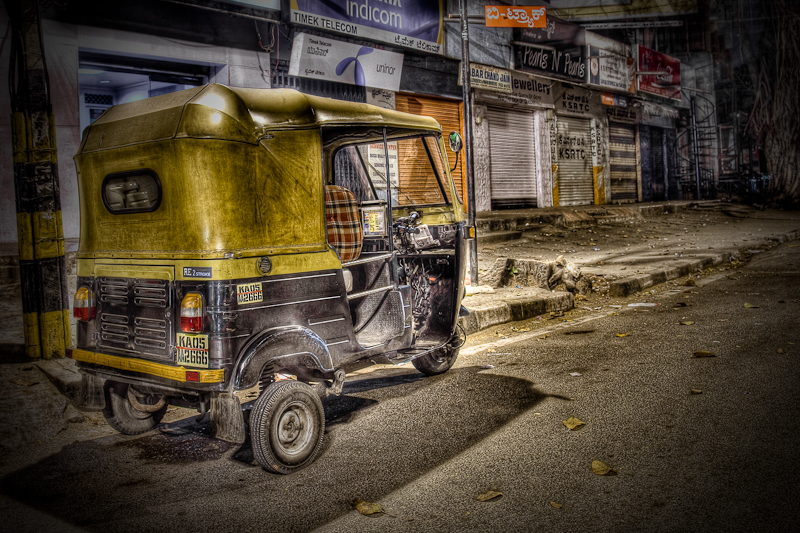rickshaw: (62, 88, 489, 467)
